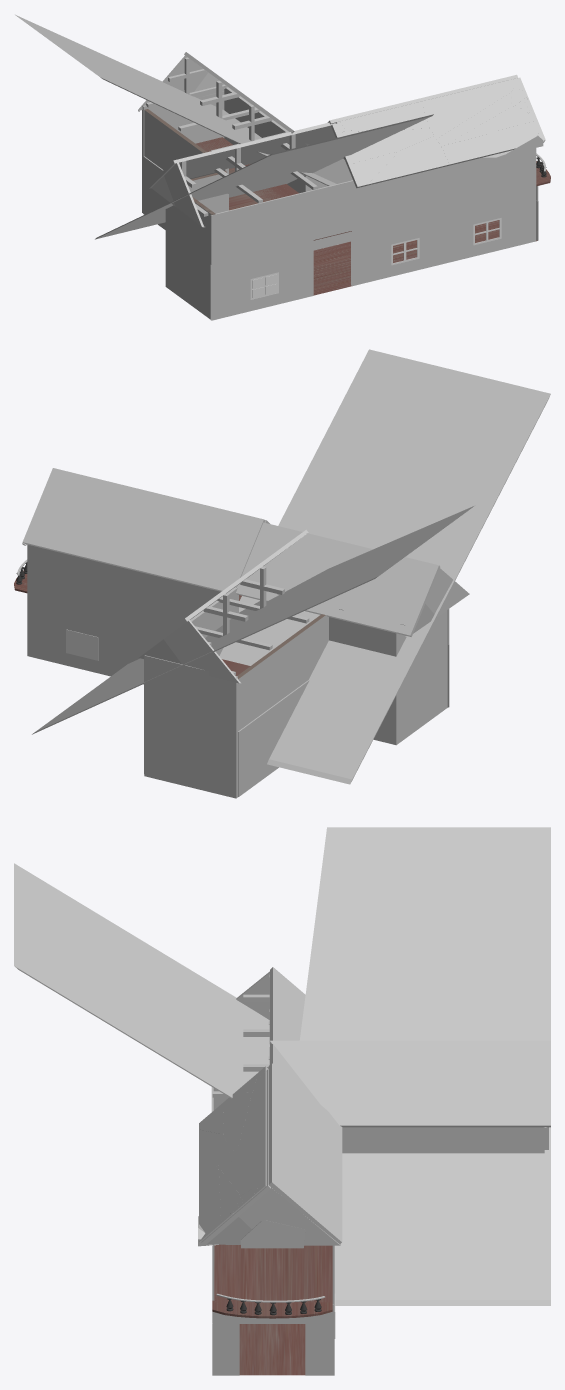
The model's file is Building_Exported.fbx.
3 views of the same model, one above another, from view 1: azimuth 30°, elevation 25°; view 2: azimuth 150°, elevation 25°; view 3: azimuth 270°, elevation 25° (orthographic). The views are drawn at different scales.
Parts seen in each view (by area): view 1: WALL.002, WALL, Floor, Roof.003, Roof.005, Roof.002, UpstairsFloor, Roof_cell.014, Roof_cell.008, RoofSupport.002, Roof_cell, Roof.004 (+12 smaller); view 2: Roof.003, Roof.001, WALL.001, Roof.002, Roof.005, Floor, UpstairsFloor, SturdyWall, Roof.004, Cube.030, RoofSupport.002, SturdyWall_cell.013 (+10 smaller); view 3: Roof.005, Roof.003, Roof.004, Roof.001, UpstairsFloor, Cube.029, Floor, Roof.006, Roof.002, BalconyFloor, Roof_cell.014, Roof_cell.029 (+8 smaller).
Boxes of the visible parts, left/top/right/bottom form: WALL.002: left=351, top=148, right=536, bottom=286; WALL: left=210, top=180, right=354, bottom=320; Floor: left=165, top=170, right=537, bottom=319; Roof.003: left=95, top=114, right=433, bottom=239; Roof.005: left=15, top=14, right=336, bottom=185; Roof.002: left=148, top=122, right=335, bottom=227; UpstairsFloor: left=144, top=109, right=538, bottom=240; Roof_cell.014: left=422, top=81, right=514, bottom=138; Roof_cell.008: left=442, top=121, right=539, bottom=165; RoofSupport.002: left=146, top=57, right=288, bottom=151; Roof_cell: left=368, top=136, right=449, bottom=184; Roof.004: left=138, top=52, right=309, bottom=144; Roof.003: left=219, top=349, right=550, bottom=784; Roof.001: left=22, top=468, right=264, bottom=591; WALL.001: left=27, top=545, right=220, bottom=684; Roof.002: left=236, top=522, right=469, bottom=636; Roof.005: left=32, top=506, right=473, bottom=734; Floor: left=329, top=610, right=447, bottom=745; UpstairsFloor: left=222, top=595, right=328, bottom=731; SturdyWall: left=144, top=655, right=237, bottom=798; Roof.004: left=135, top=529, right=308, bottom=683; Cube.030: left=238, top=680, right=309, bottom=796; RoofSupport.002: left=190, top=566, right=309, bottom=675; SturdyWall_cell.013: left=166, top=709, right=216, bottom=760; Roof.005: left=299, top=827, right=550, bottom=1305; Roof.003: left=14, top=863, right=269, bottom=1098; Roof.004: left=269, top=1040, right=550, bottom=1127; Roof.001: left=268, top=1063, right=342, bottom=1243; UpstairsFloor: left=213, top=1244, right=332, bottom=1302; Cube.029: left=342, top=1127, right=544, bottom=1153; Floor: left=213, top=1088, right=305, bottom=1375; Roof.006: left=201, top=1069, right=340, bottom=1245; Roof.002: left=236, top=967, right=320, bottom=1104; BalconyFloor: left=212, top=1295, right=332, bottom=1318; Roof_cell.014: left=227, top=1123, right=266, bottom=1186; Roof_cell.029: left=240, top=1220, right=306, bottom=1248.
Bounding box in the file's own units: 3135 × 1644 × 2679.
